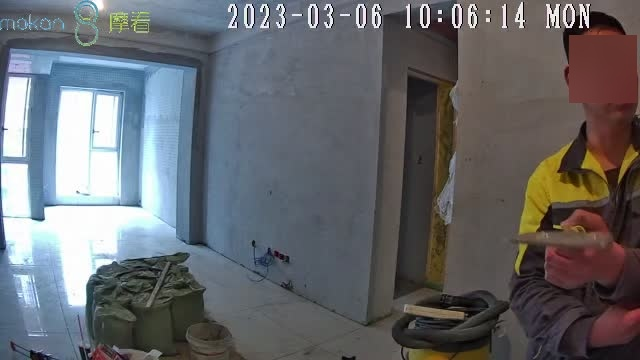people: (508, 12, 640, 357)
window: (58, 85, 124, 201)
